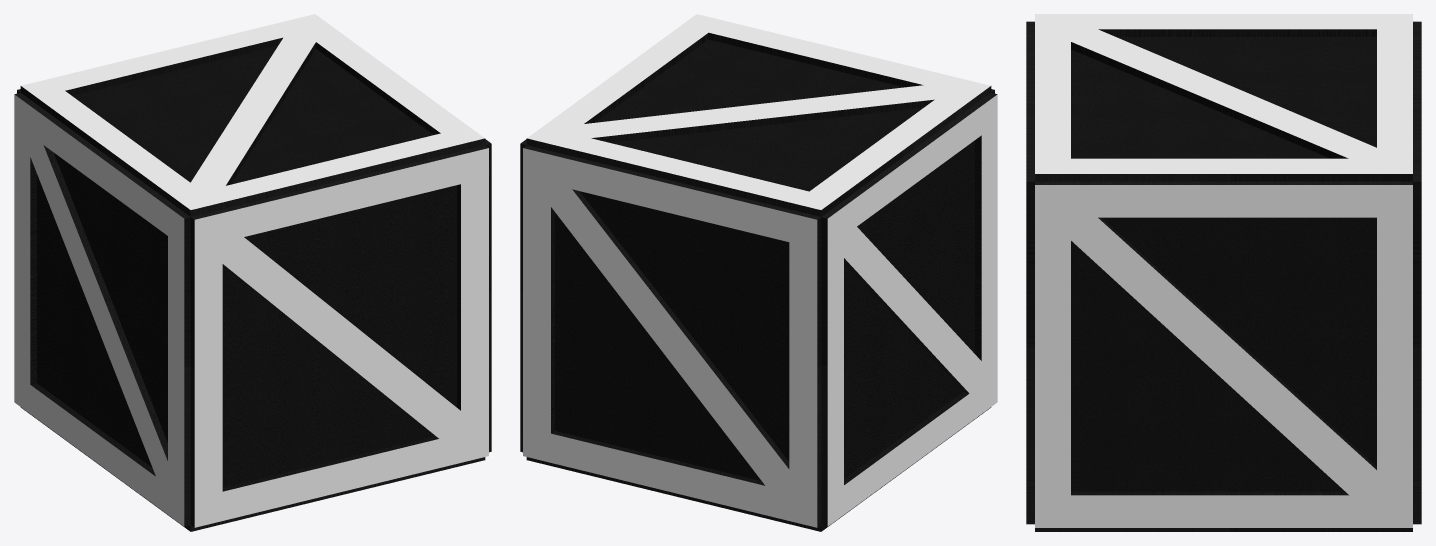
Rendered from Crate.FBX.
3 views of the same model, side by side, from view 1: azimuth 30°, elevation 25°; view 2: azimuth 150°, elevation 25°; view 3: azimuth 270°, elevation 25° (orthographic). The views are drawn at different scales.
Parts seen in each view (by area): view 1: Crate; view 2: Crate; view 3: Crate.
Part boxes in pixels (x1,y1,x2,y2): Crate: (14, 14, 491, 531); Crate: (520, 14, 997, 531); Crate: (1026, 14, 1421, 531).
Size of the model in its own units: 37.01 by 37.01 by 37.01.
